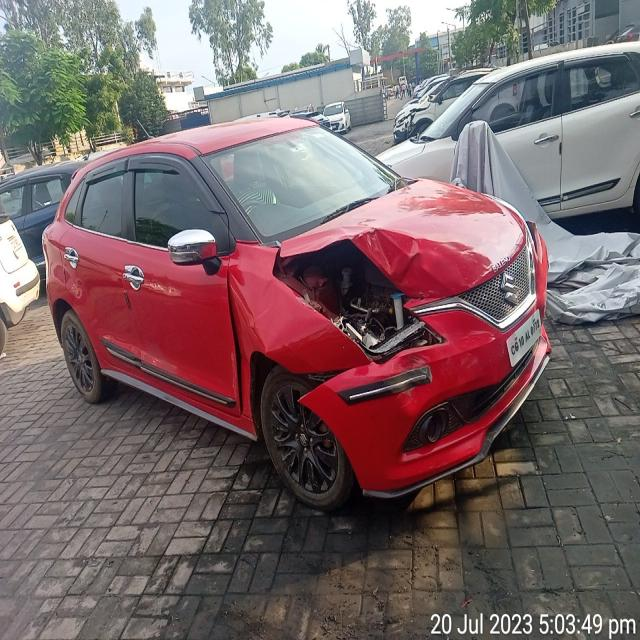damage: (259, 218, 444, 265), (334, 311, 451, 365), (291, 367, 354, 410), (226, 277, 244, 421)
